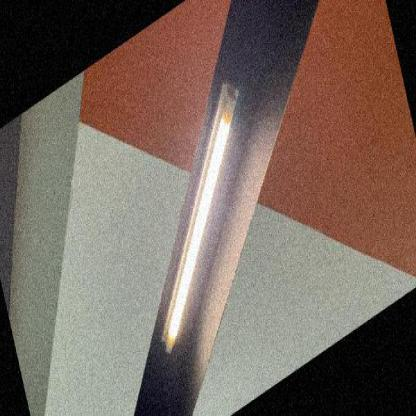light_on: (112, 60, 289, 369)
